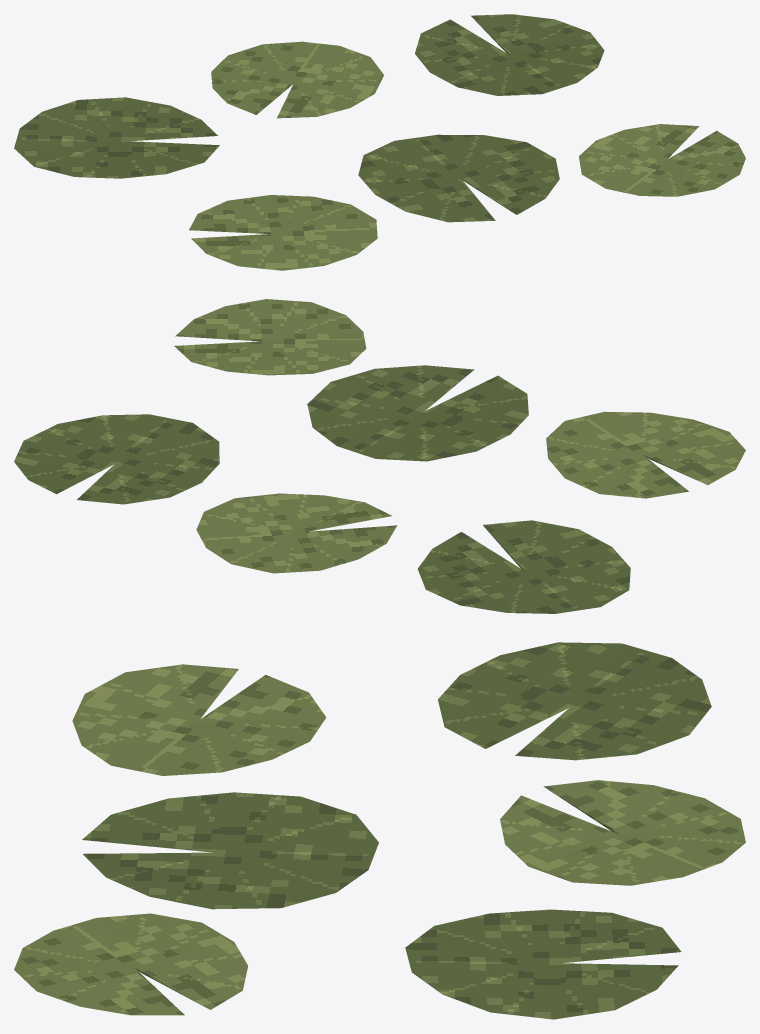
Rendered from sich_lily_pads.glb.
The picture shows the model from 3 angles, top to bottom: view 1: azimuth 30°, elevation 25°; view 2: azimuth 150°, elevation 25°; view 3: azimuth 270°, elevation 25°; orthographic projection. The views are drawn at different scales.
Visible parts, largest first — view 1: Lily_Pads; view 2: Lily_Pads; view 3: Lily_Pads.
Boxes of the visible parts, box(x1,y1,x2,y2) form: Lily_Pads: box(14, 14, 745, 270); Lily_Pads: box(14, 299, 745, 613); Lily_Pads: box(14, 642, 745, 1019).
Bounding box in the file's own units: 0.9 × 0.0055 × 0.7381.
Materials: 1 (1 with a texture image).
